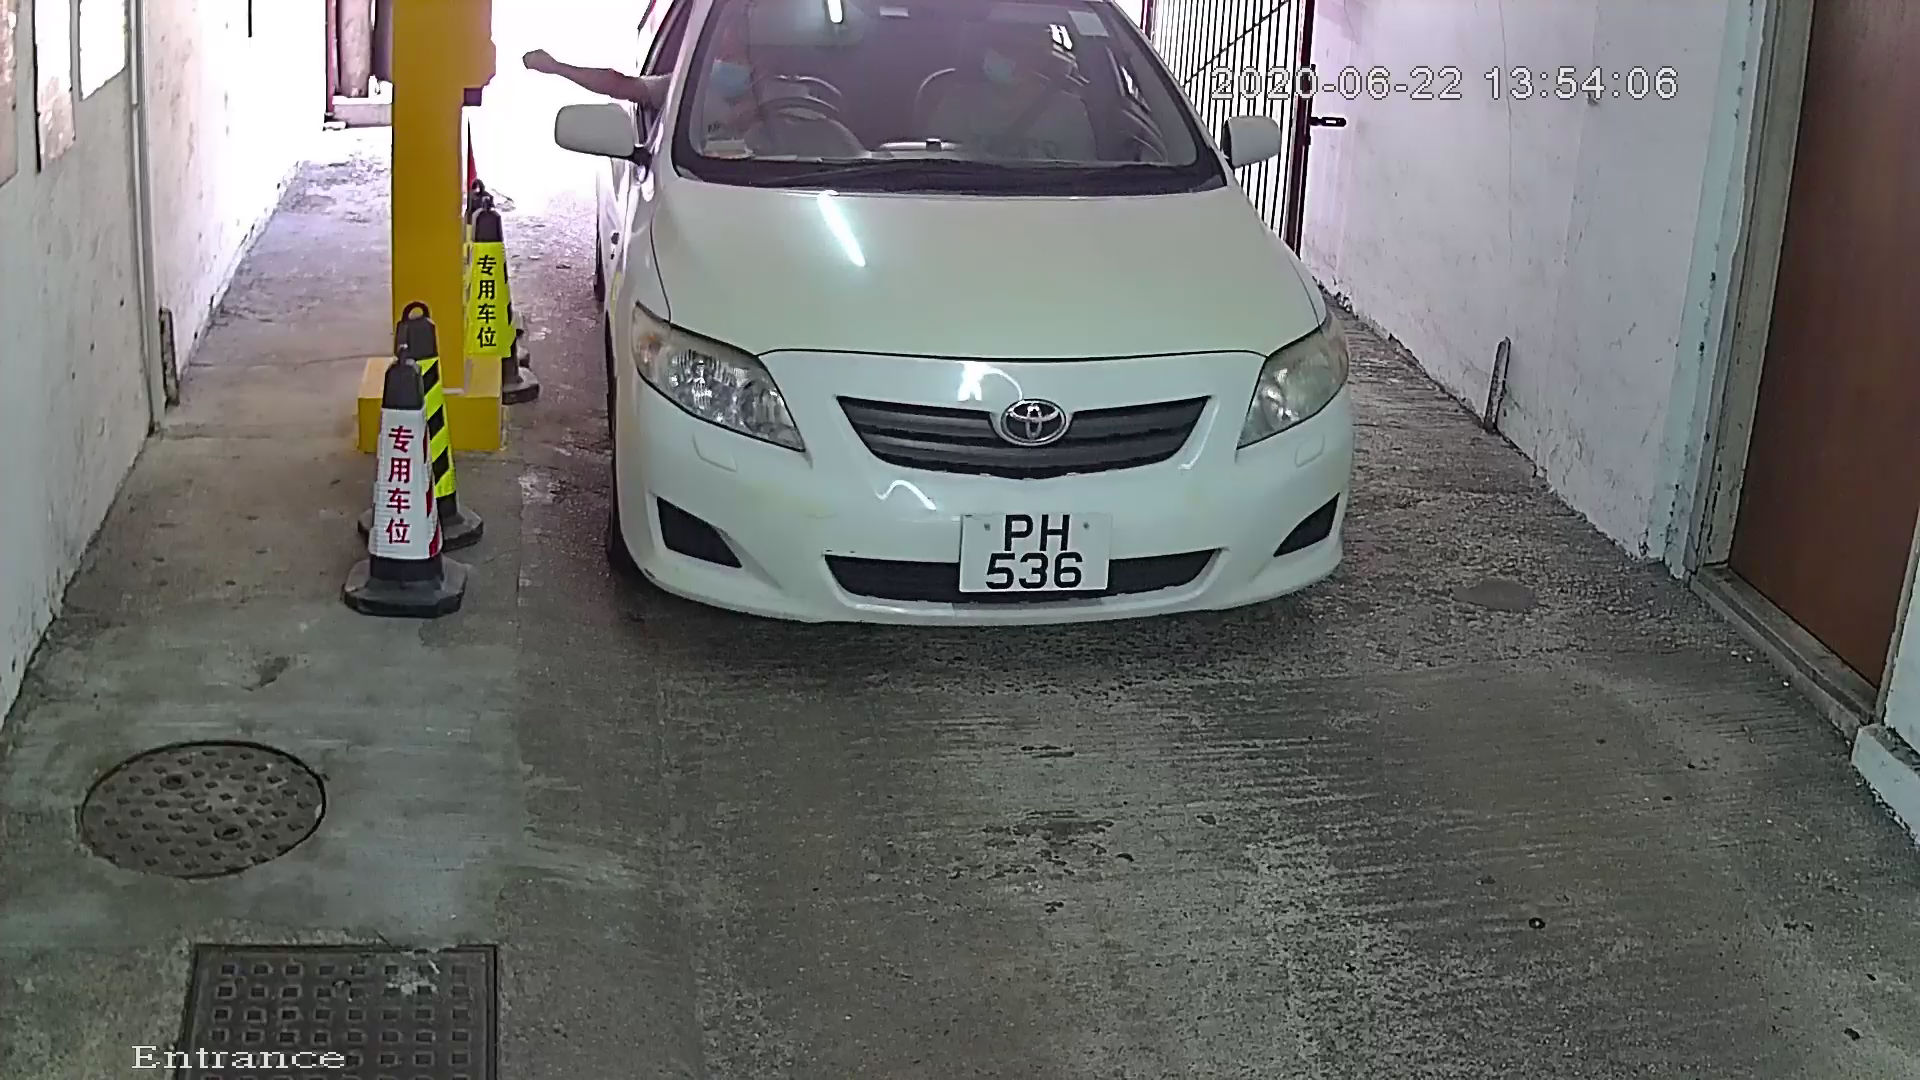privatecar: (545, 1, 1411, 715)
